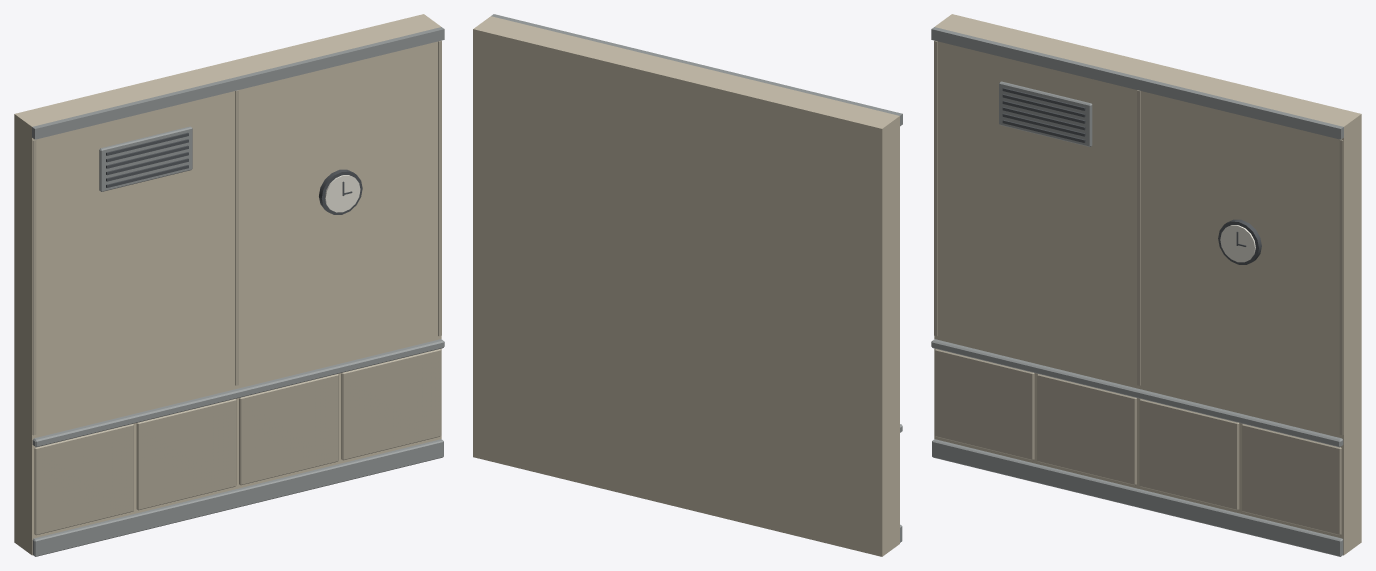
File: wall_an_grille.glb
The picture shows the model from 3 angles, left to right: view 1: azimuth 30°, elevation 25°; view 2: azimuth 150°, elevation 25°; view 3: azimuth 330°, elevation 25°; orthographic projection.
Visible parts, largest first — view 1: wall_an_grille; view 2: wall_an_grille; view 3: wall_an_grille.
Boxes of the visible parts, x1=… form: wall_an_grille: x1=14, y1=14, x2=444, y2=556; wall_an_grille: x1=473, y1=14, x2=902, y2=556; wall_an_grille: x1=931, y1=14, x2=1361, y2=556.
Size of the model in its own units: 4 by 4 by 0.374.
